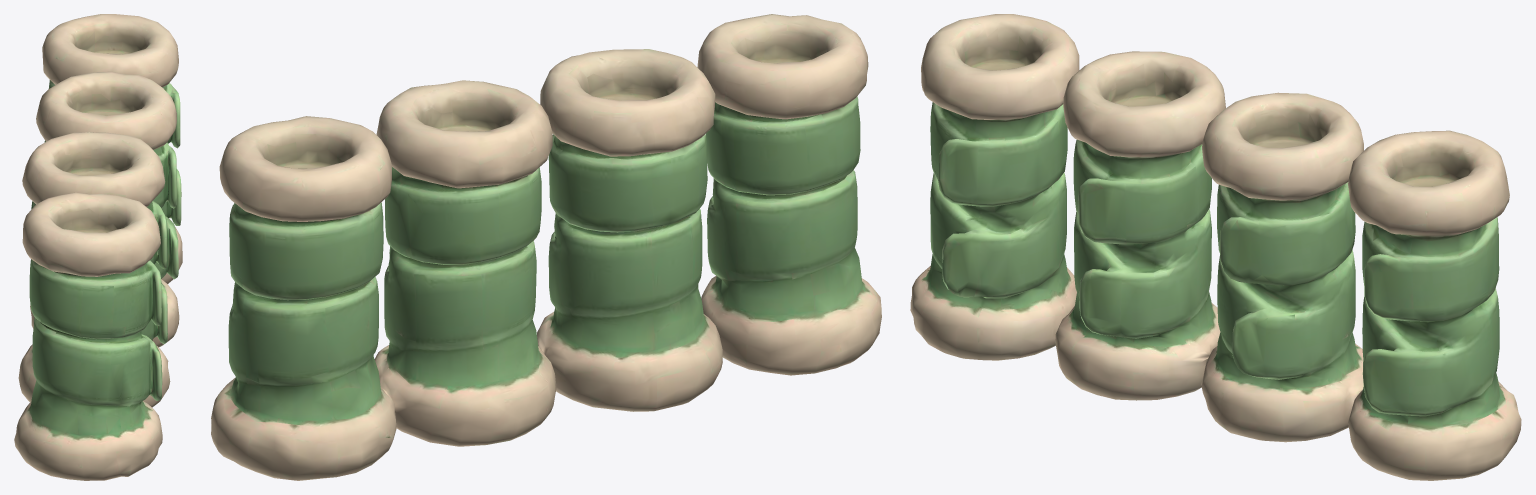
The picture shows the model from 3 angles, left to right: view 1: azimuth 30°, elevation 25°; view 2: azimuth 150°, elevation 25°; view 3: azimuth 270°, elevation 25°; orthographic projection. The views are drawn at different scales.
Visible parts, largest first — view 1: leg-wraps; view 2: leg-wraps; view 3: leg-wraps.
Boxes of the visible parts, box(x1,y1,x2,y2) form: leg-wraps: box(14, 14, 182, 480); leg-wraps: box(211, 14, 881, 480); leg-wraps: box(910, 14, 1521, 480).
Size of the model in its own units: 0.2669 by 0.1873 by 0.3546.
Materials: 1 (1 with a texture image).
